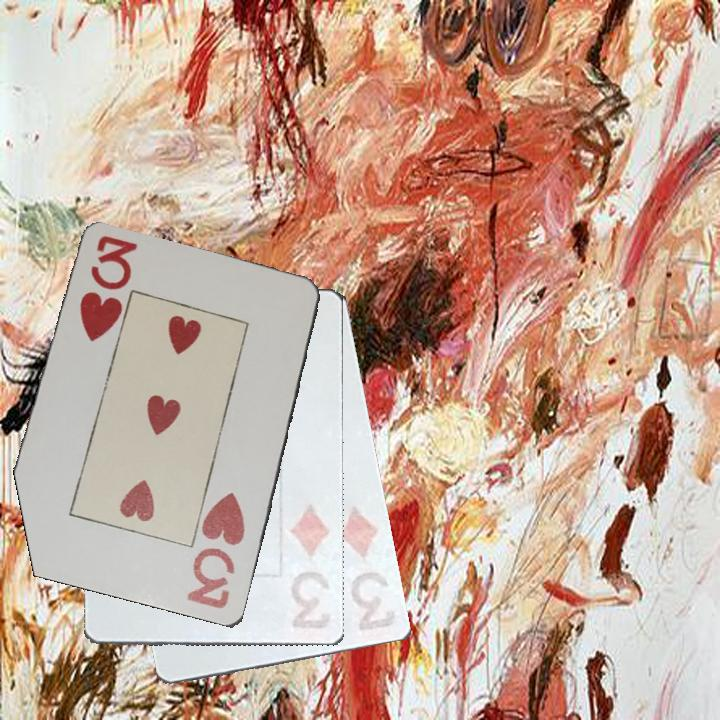3d: (330, 503, 400, 640), (281, 501, 334, 636)
3h: (183, 488, 249, 613), (76, 232, 137, 345)
